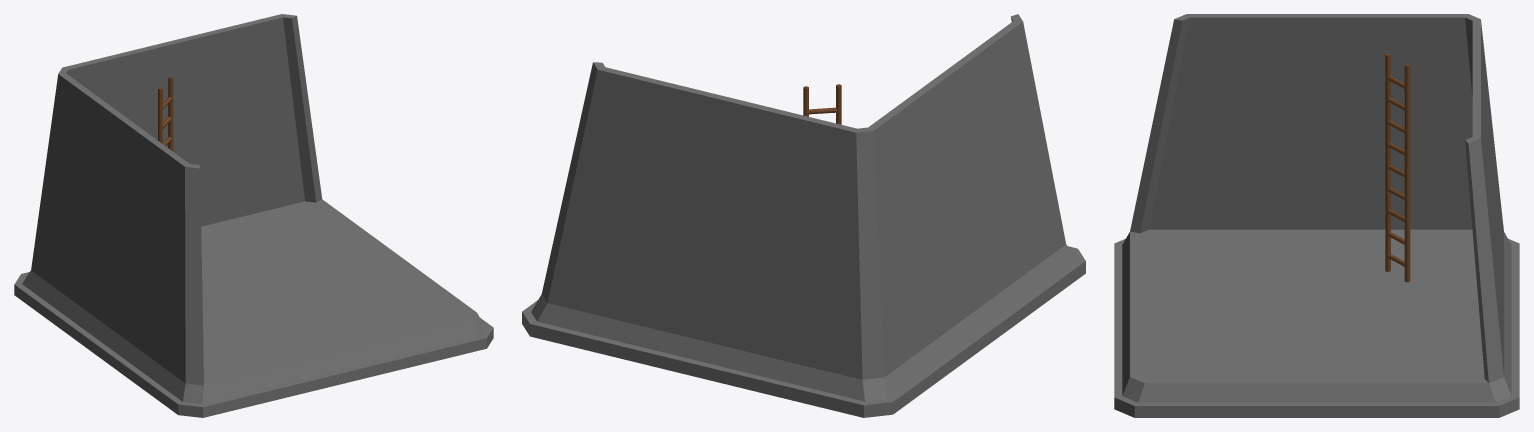
The model's file is stage_1.fbx.
3 renders of one model, left to right at view 1: azimuth 30°, elevation 25°; view 2: azimuth 150°, elevation 25°; view 3: azimuth 270°, elevation 25°, orthographic. The views are drawn at different scales.
Parts seen in each view (by area): view 1: Plane, Cylinder; view 2: Plane, Cylinder; view 3: Plane, Cylinder.
Boxes of the visible parts, bbox=[...] form: Plane: bbox=[14, 14, 493, 417]; Cylinder: bbox=[158, 76, 173, 151]; Plane: bbox=[522, 14, 1085, 417]; Cylinder: bbox=[803, 84, 841, 124]; Plane: bbox=[1114, 14, 1519, 417]; Cylinder: bbox=[1385, 53, 1410, 282].
Size of the model in its own units: 1483 by 1006 by 1483.
